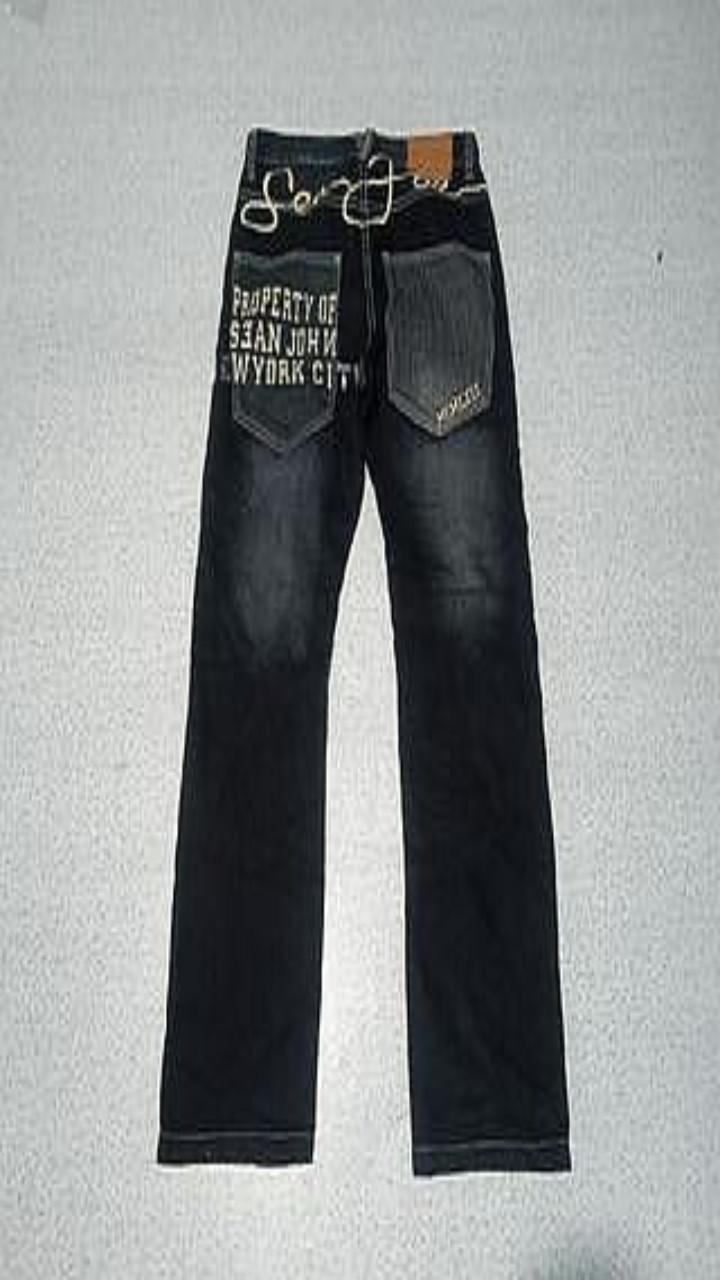Jeans: (157, 127, 570, 1174)
